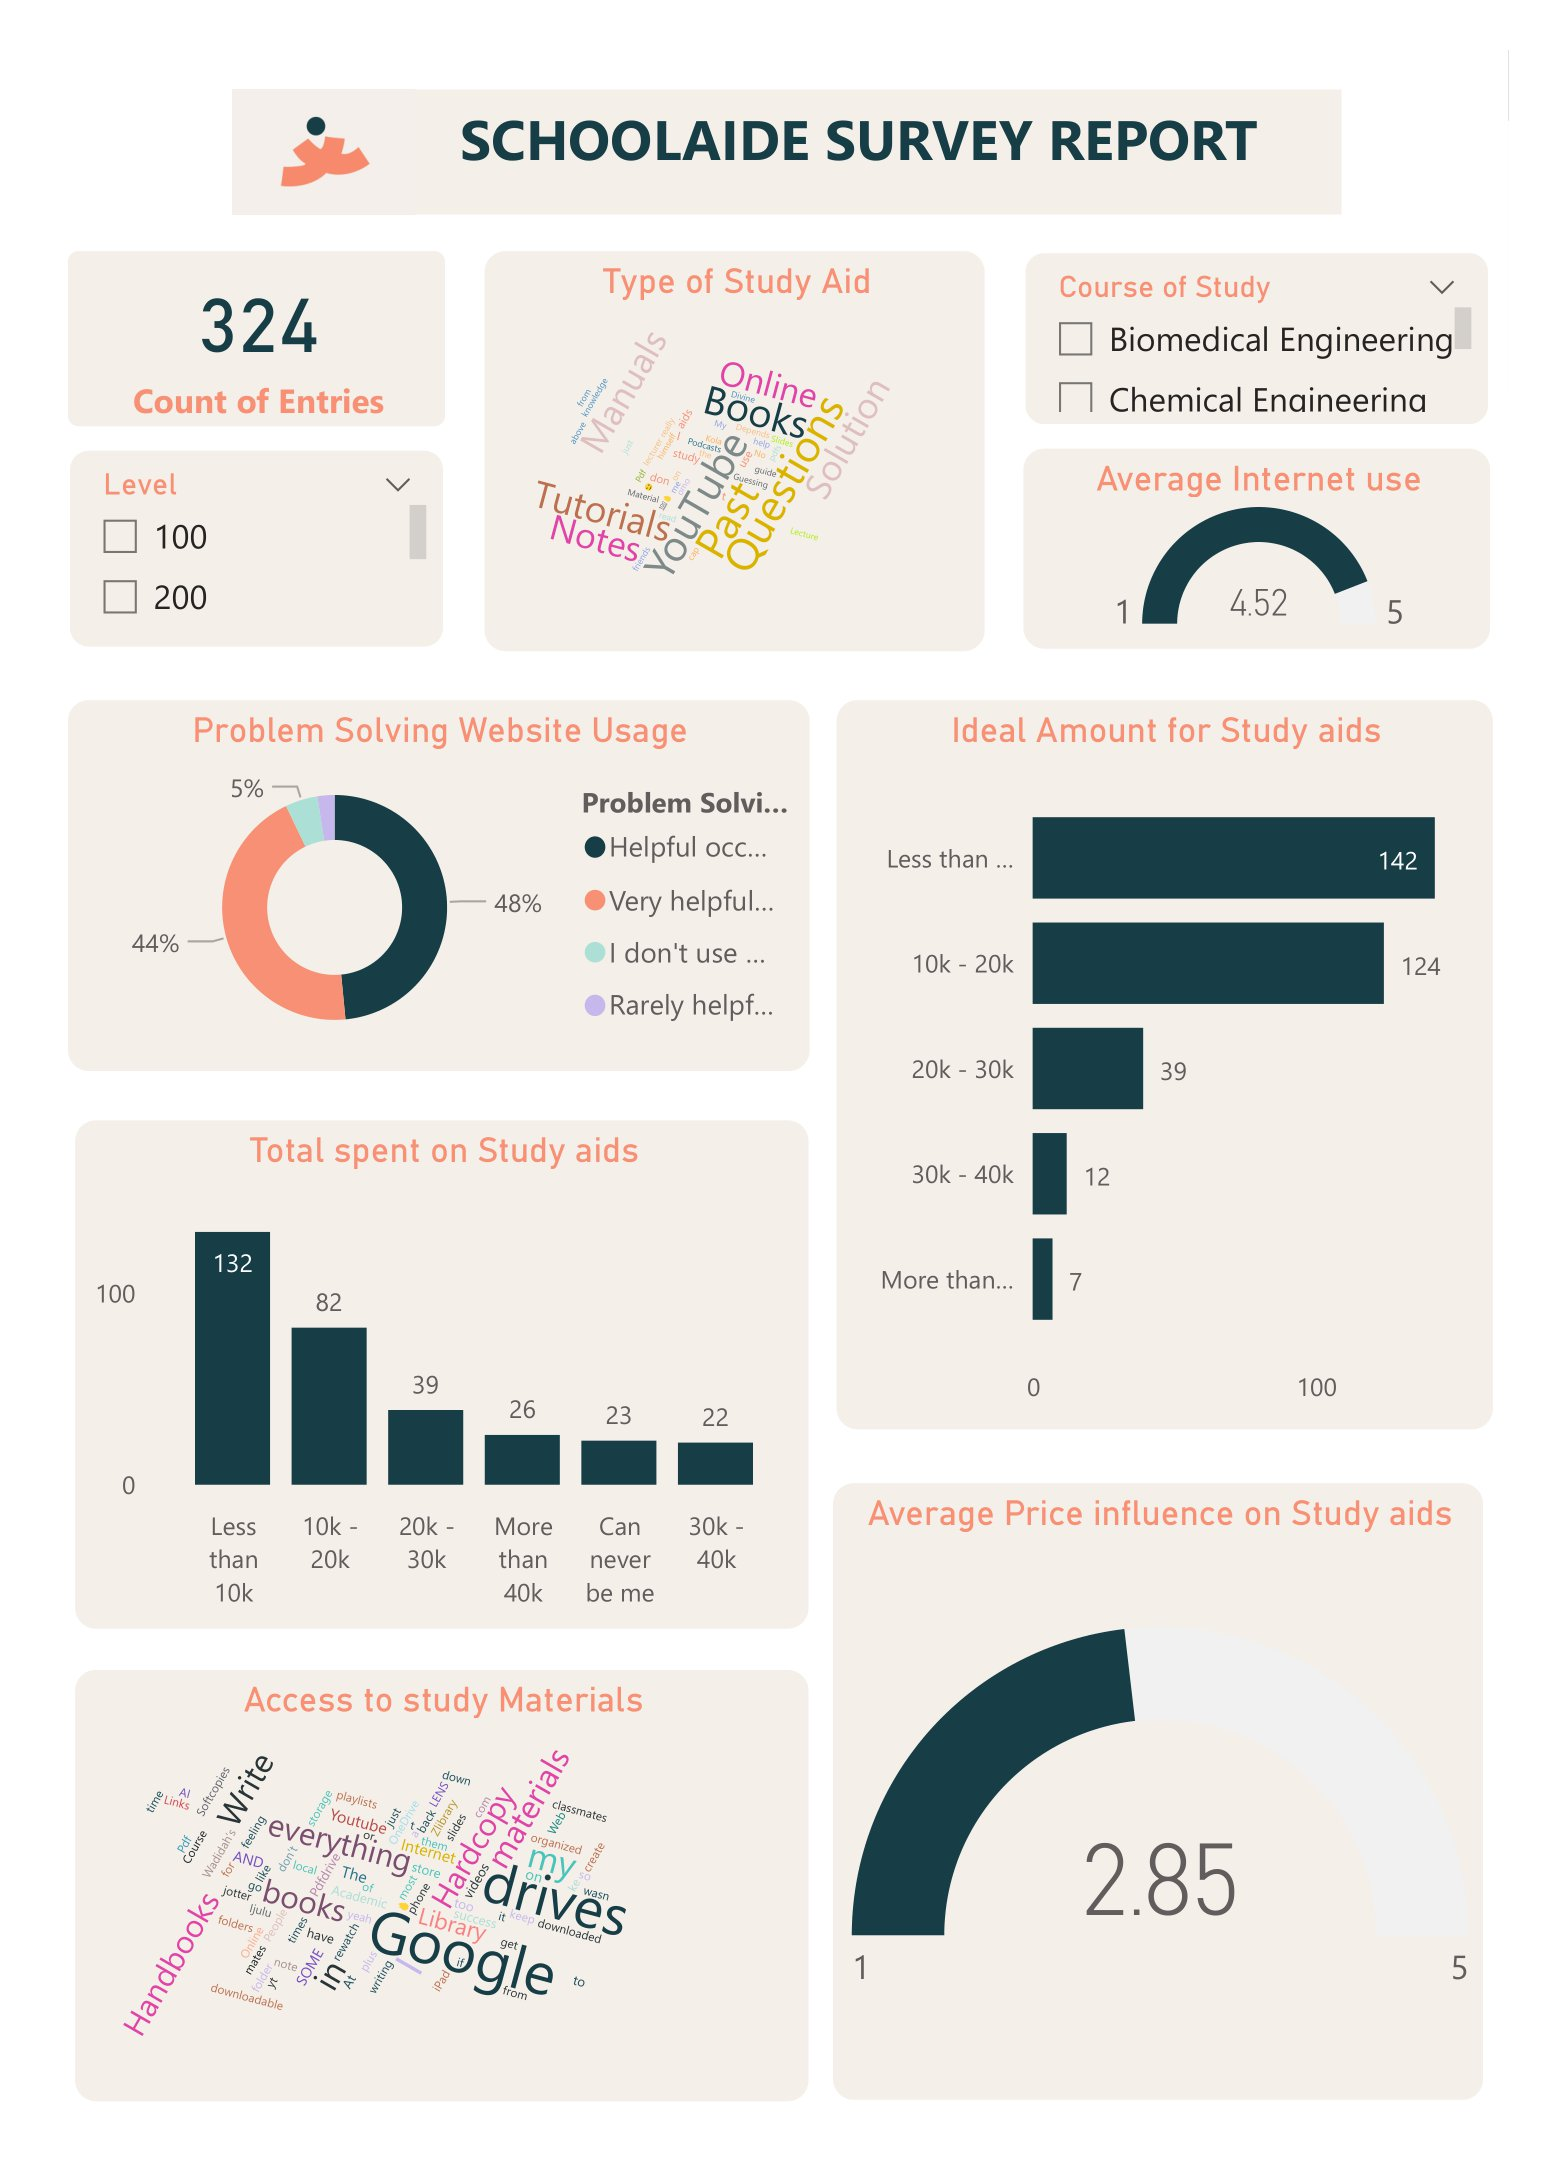

The page's visual inventory and layout, read from the dashboard file:
{"tool":"powerbi","page":{"name":"Page 1","canvas":[700,1000],"ordinal":0},"visuals":[{"type":"card","fields":{"Values":["Table 1.Count"]},"box":[8.9,96,181.3,83.6],"z":0},{"type":"WordCloud1447959067750","fields":{"Category":["Table 1.Type of Study Aid"]},"box":[208,96,240,192],"z":1000},{"type":"slicer","fields":{"Values":["Table 1.Course of Study"]},"box":[467.6,96,224,83.6],"z":2000},{"type":"gauge","title":"Average Internet use","fields":{"Y":["Table 1.Internet use"],"MaxValue":["Table 1.Internet use"],"MinValue":["Sum(Table 1.Internet use)1"]},"box":[467.6,192,224,96],"z":3000},{"type":"donutChart","title":"Problem Solving Website Usage","fields":{"Category":["Table 1.Problem Solving Website"],"Y":["Table 1.Entries"]},"box":[8.9,312.9,355.6,177.8],"z":4000},{"type":"barChart","title":"Ideal Amount for Study aids","fields":{"Category":["Table 1.Ideal Amount"],"Y":["Table 1.Entries"]},"box":[376.9,312.9,314.7,350.2],"z":5000},{"type":"columnChart","title":"Total spent on Study aids","fields":{"Y":["Table 1.Entries"],"Category":["Table 1.Total spent"]},"box":[12.4,513.8,352,243.6],"z":6000},{"type":"slicer","fields":{"Values":["Table 1.Level"]},"box":[8.9,192,181.3,96],"z":7000},{"type":"gauge","title":"Average Price influence on Study aids","fields":{"Y":["Table 1.Price influence"],"MinValue":["Table 1.Price influence"],"MaxValue":["Sum(Table 1.Price influence)1"]},"box":[376,688,312,296],"z":8000},{"type":"textbox","box":[156.8,18.8,462.7,60],"z":9000},{"type":"WordCloud1447959067750","fields":{"Category":["Table 1.Access to study Materials"]},"box":[12.1,777.6,351.7,206.9],"z":10000},{"type":"image","box":[83.1,0,96.8,96.8],"z":10001}]}

Visuals, with their boxes on the page's 700x1000 design canvas (x1, y1, x2, y2). These are canvas units, not pixel positions in the 1559x2184 screenshot, which may show the page scaled, cropped or inside an application window:
card - Table 1.Count: (left=9, top=96, right=190, bottom=180)
WordCloud1447959067750 - Table 1.Type of Study Aid: (left=208, top=96, right=448, bottom=288)
slicer - Table 1.Course of Study: (left=468, top=96, right=692, bottom=180)
"Average Internet use" gauge: (left=468, top=192, right=692, bottom=288)
"Problem Solving Website Usage" donutChart: (left=9, top=313, right=364, bottom=491)
"Ideal Amount for Study aids" barChart: (left=377, top=313, right=692, bottom=663)
"Total spent on Study aids" columnChart: (left=12, top=514, right=364, bottom=757)
slicer - Table 1.Level: (left=9, top=192, right=190, bottom=288)
"Average Price influence on Study aids" gauge: (left=376, top=688, right=688, bottom=984)
textbox: (left=157, top=19, right=620, bottom=79)
WordCloud1447959067750 - Table 1.Access to study Materials: (left=12, top=778, right=364, bottom=984)
image: (left=83, top=0, right=180, bottom=97)
